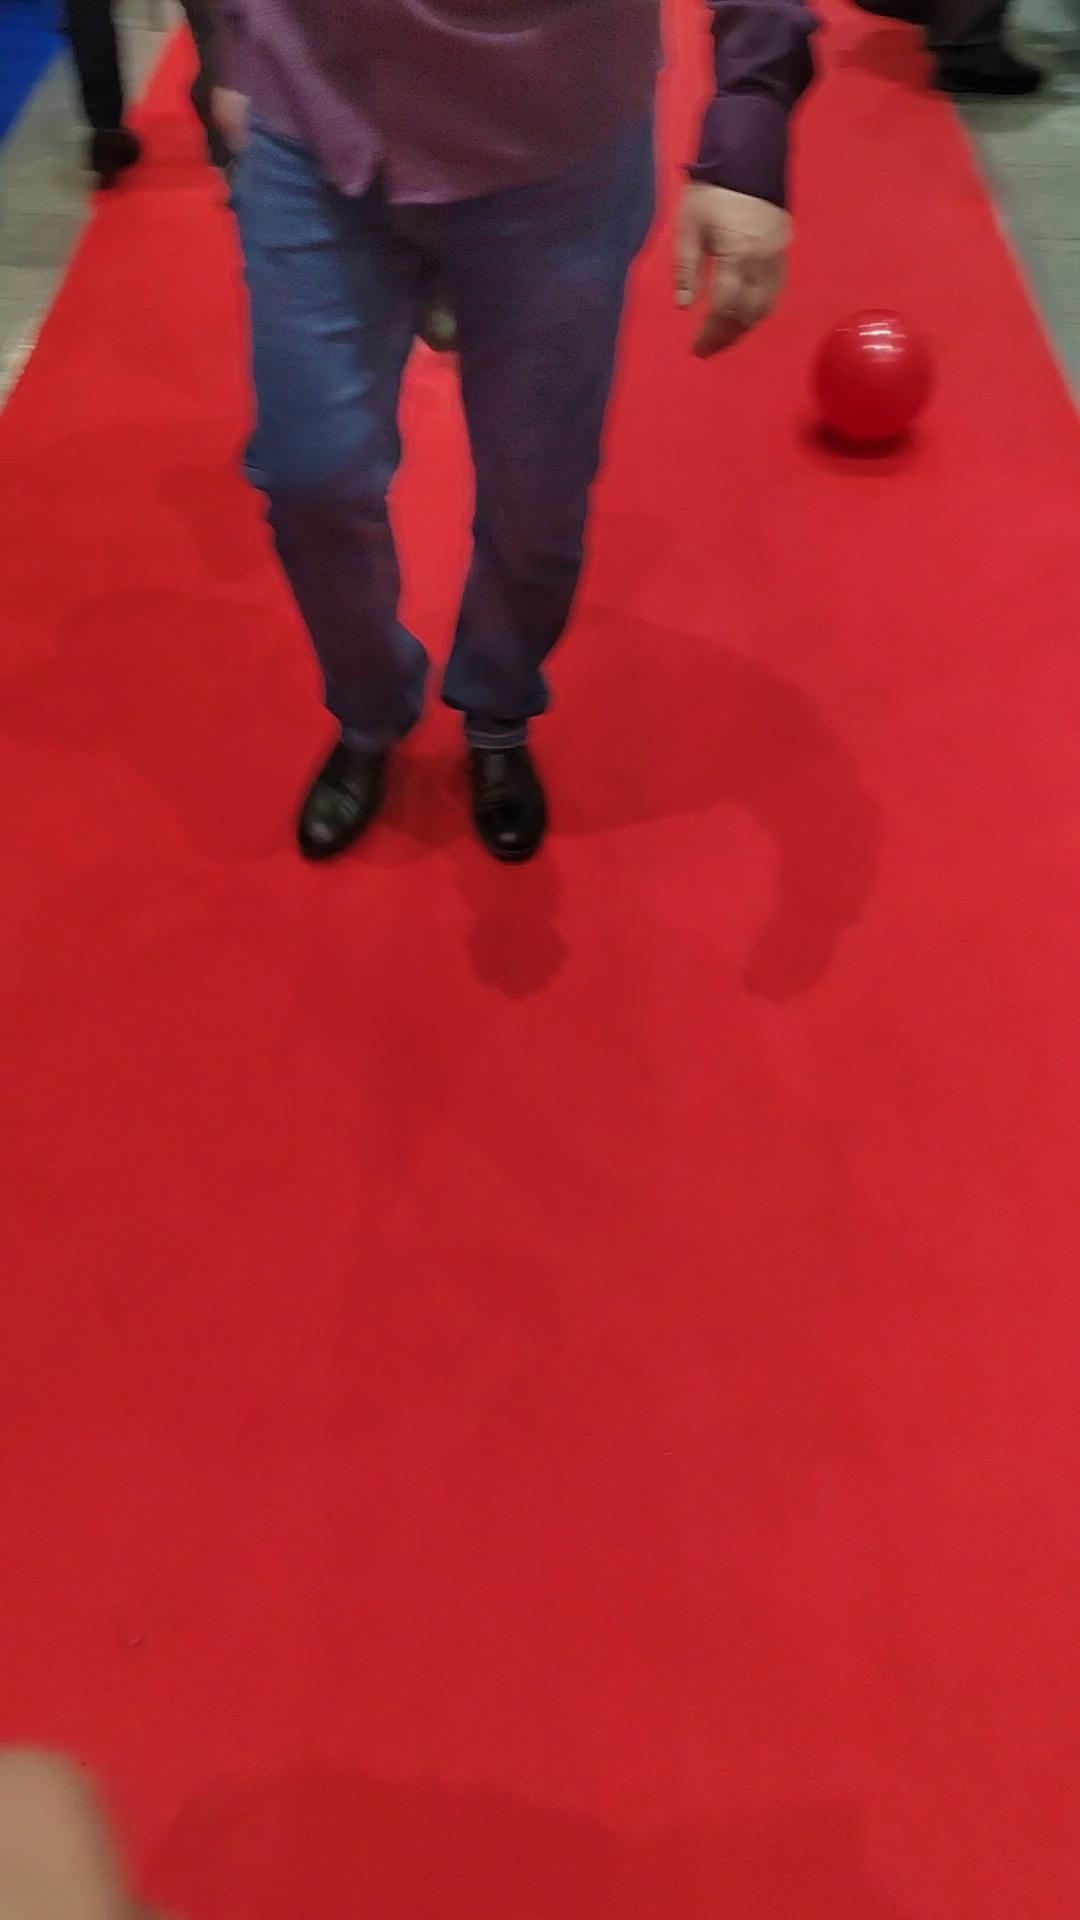red: (812, 307, 934, 439)
